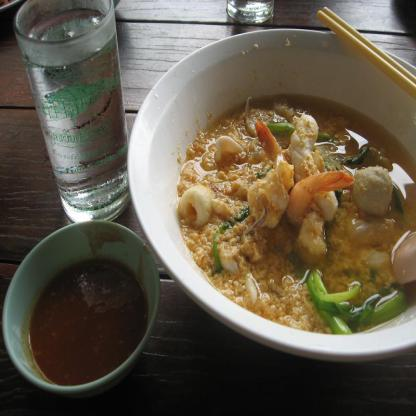Suki: (168, 57, 415, 353)
